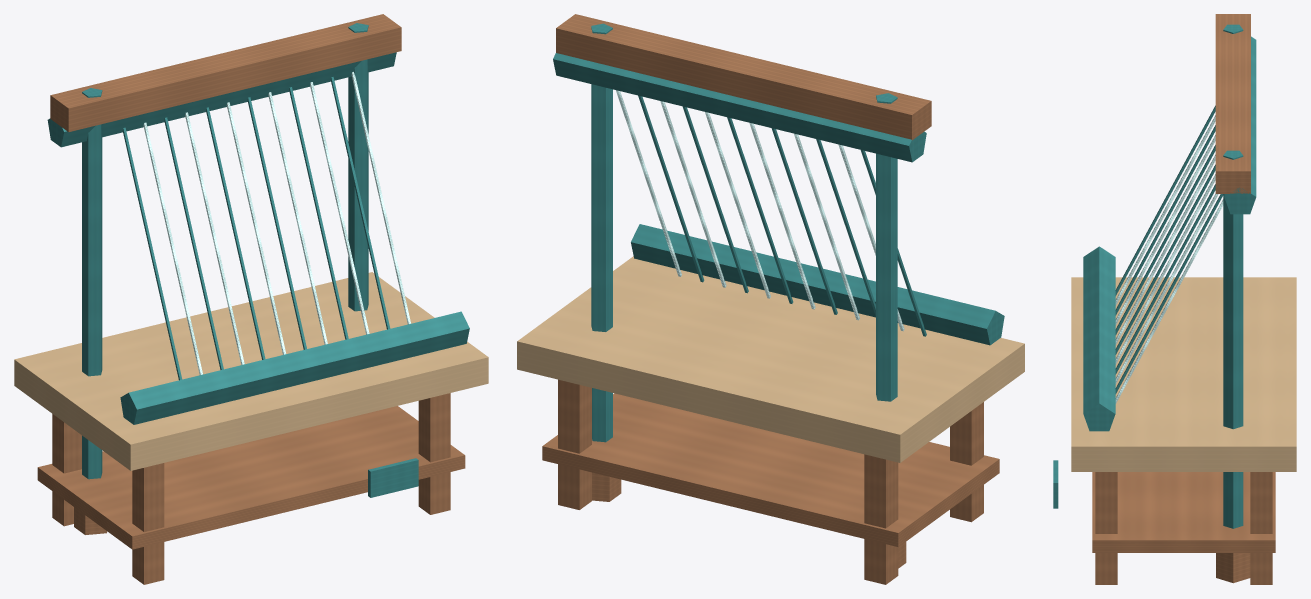
Rendered from atlas100-s093-a02.lod1.glb.
3 views of the same model, side by side, from view 1: azimuth 30°, elevation 25°; view 2: azimuth 150°, elevation 25°; view 3: azimuth 270°, elevation 25° (orthographic). The views are drawn at different scales.
Visible parts, largest first — view 1: atlas100-s093-a02:part-004, atlas100-s093-a02:part-005, atlas100-s093-a02:part-010, atlas100-s093-a02:part-024, atlas100-s093-a02:part-006, atlas100-s093-a02:part-008, atlas100-s093-a02:part-025, atlas100-s093-a02:part-001, atlas100-s093-a02:part-003, atlas100-s093-a02:part-000, atlas100-s093-a02:part-026, atlas100-s093-a02:part-014 (+11 smaller); view 2: atlas100-s093-a02:part-004, atlas100-s093-a02:part-005, atlas100-s093-a02:part-010, atlas100-s093-a02:part-024, atlas100-s093-a02:part-025, atlas100-s093-a02:part-008, atlas100-s093-a02:part-006, atlas100-s093-a02:part-000, atlas100-s093-a02:part-002, atlas100-s093-a02:part-001, atlas100-s093-a02:part-019, atlas100-s093-a02:part-016 (+9 smaller); view 3: atlas100-s093-a02:part-004, atlas100-s093-a02:part-005, atlas100-s093-a02:part-010, atlas100-s093-a02:part-008, atlas100-s093-a02:part-024, atlas100-s093-a02:part-002, atlas100-s093-a02:part-003, atlas100-s093-a02:part-025, atlas100-s093-a02:part-009, atlas100-s093-a02:part-023, atlas100-s093-a02:part-022, atlas100-s093-a02:part-021 (+9 smaller).
Part boxes in pixels (<box>): atlas100-s093-a02:part-004: <box>14,272,488,470</box>; atlas100-s093-a02:part-005: <box>37,406,465,549</box>; atlas100-s093-a02:part-010: <box>50,14,401,131</box>; atlas100-s093-a02:part-024: <box>120,311,469,424</box>; atlas100-s093-a02:part-006: <box>82,88,102,479</box>; atlas100-s093-a02:part-008: <box>348,23,368,311</box>; atlas100-s093-a02:part-025: <box>47,52,396,147</box>; atlas100-s093-a02:part-001: <box>132,463,164,584</box>; atlas100-s093-a02:part-003: <box>418,393,450,514</box>; atlas100-s093-a02:part-000: <box>52,414,81,526</box>; atlas100-s093-a02:part-026: <box>368,458,418,497</box>; atlas100-s093-a02:part-014: <box>164,117,223,369</box>; atlas100-s093-a02:part-004: <box>517,256,1024,462</box>; atlas100-s093-a02:part-005: <box>542,393,999,547</box>; atlas100-s093-a02:part-010: <box>556,14,931,140</box>; atlas100-s093-a02:part-024: <box>631,224,1004,345</box>; atlas100-s093-a02:part-025: <box>553,53,926,162</box>; atlas100-s093-a02:part-008: <box>591,23,612,442</box>; atlas100-s093-a02:part-006: <box>876,93,897,401</box>; atlas100-s093-a02:part-000: <box>864,454,898,584</box>; atlas100-s093-a02:part-002: <box>558,379,591,509</box>; atlas100-s093-a02:part-001: <box>950,402,983,522</box>; atlas100-s093-a02:part-019: <box>705,112,770,298</box>; atlas100-s093-a02:part-016: <box>771,128,837,314</box>; atlas100-s093-a02:part-004: <box>1071,277,1296,471</box>; atlas100-s093-a02:part-005: <box>1092,472,1275,552</box>; atlas100-s093-a02:part-010: <box>1215,14,1250,193</box>; atlas100-s093-a02:part-008: <box>1223,150,1243,528</box>; atlas100-s093-a02:part-024: <box>1083,246,1115,431</box>; atlas100-s093-a02:part-002: <box>1250,472,1272,584</box>; atlas100-s093-a02:part-003: <box>1095,472,1117,584</box>; atlas100-s093-a02:part-025: <box>1224,36,1256,214</box>; atlas100-s093-a02:part-009: <box>1216,553,1250,583</box>; atlas100-s093-a02:part-023: <box>1115,199,1223,403</box>; atlas100-s093-a02:part-022: <box>1115,194,1223,393</box>; atlas100-s093-a02:part-021: <box>1115,194,1218,384</box>.
Bounding box in the file's own units: 2.84 × 3.3 × 1.73.
4 materials, 4 textured.
